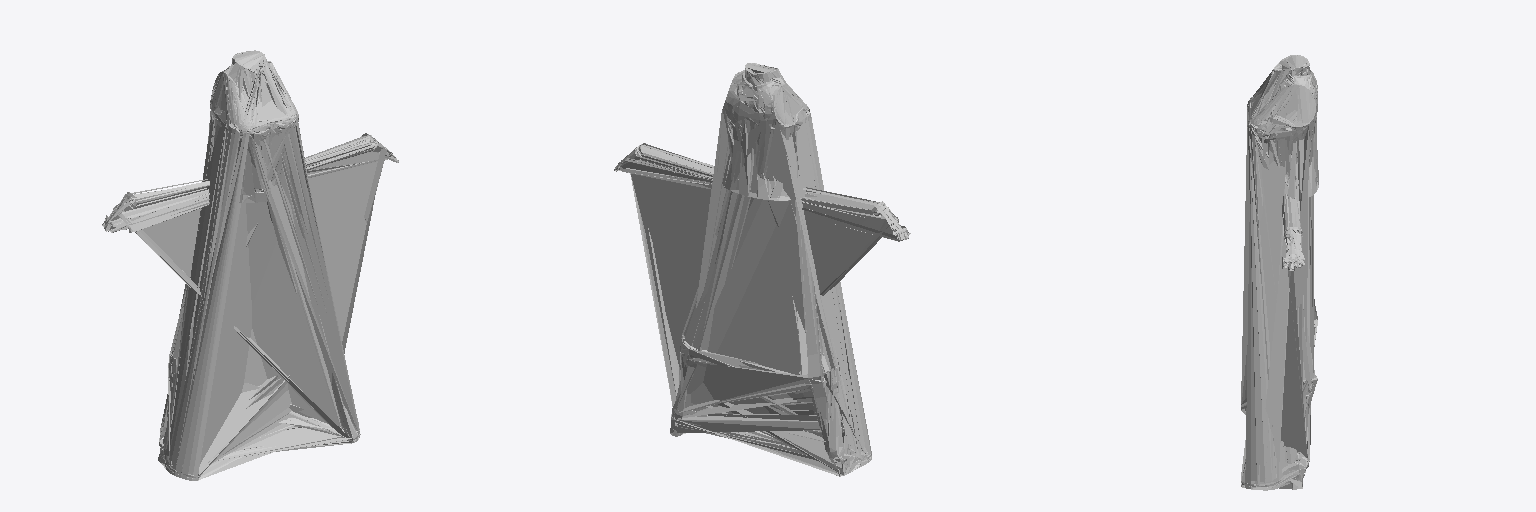
The picture shows the model from 3 angles: view 1: azimuth 30°, elevation 25°; view 2: azimuth 150°, elevation 25°; view 3: azimuth 270°, elevation 25°; orthographic projection.
Parts seen in each view (by area): view 1: Model001_25_face_1_0_0_head_head neck upper, Model001_25_ponytail_1_0_0_body lower_spine lower, Model001_25_eyes_1_0_0_body upper_spine upper, Model001_25_arm1_1_0_0_knee right_leg right knee, Model001_25_hair1_1_0_0_hand left_arm left wrist, Model001_25_shirt_2_0_0, Model001_25_boots_1_0_0, Model001_25_pants_2_0_0_hand right_arm right wrist; view 2: Model001_25_face_1_0_0_head_head neck upper, Model001_25_ponytail_1_0_0_body lower_spine lower, Model001_25_eyes_1_0_0_body upper_spine upper, Model001_25_gloves_1_0_0, Model001_25_boots_1_0_0, Model001_25_pants_2_0_0_hand right_arm right wrist, Model001_25_shirt_2_0_0; view 3: Model001_25_face_1_0_0_head_head neck upper, Model001_25_ponytail_1_0_0_body lower_spine lower, Model001_25_gloves_1_0_0, Model001_25_boots_1_0_0, Model001_25_hair1_1_0_0_hand left_arm left wrist, Model001_25_eyes_1_0_0_body upper_spine upper.
Boxes of the visible parts, box(x1,y1,x2,y2) form: Model001_25_face_1_0_0_head_head neck upper: box(102, 51, 398, 480); Model001_25_ponytail_1_0_0_body lower_spine lower: box(158, 50, 358, 480); Model001_25_eyes_1_0_0_body upper_spine upper: box(210, 56, 295, 188); Model001_25_arm1_1_0_0_knee right_leg right knee: box(226, 61, 290, 202); Model001_25_hair1_1_0_0_hand left_arm left wrist: box(158, 54, 326, 477); Model001_25_shirt_2_0_0: box(212, 60, 294, 146); Model001_25_boots_1_0_0: box(233, 52, 297, 192); Model001_25_pants_2_0_0_hand right_arm right wrist: box(210, 55, 295, 202); Model001_25_face_1_0_0_head_head neck upper: box(614, 63, 910, 476); Model001_25_ponytail_1_0_0_body lower_spine lower: box(670, 64, 871, 475); Model001_25_eyes_1_0_0_body upper_spine upper: box(722, 68, 810, 200); Model001_25_gloves_1_0_0: box(722, 65, 808, 192); Model001_25_boots_1_0_0: box(722, 64, 790, 200); Model001_25_pants_2_0_0_hand right_arm right wrist: box(722, 72, 784, 148); Model001_25_shirt_2_0_0: box(727, 69, 810, 199); Model001_25_face_1_0_0_head_head neck upper: box(1241, 55, 1317, 490); Model001_25_ponytail_1_0_0_body lower_spine lower: box(1241, 56, 1317, 490); Model001_25_gloves_1_0_0: box(1252, 56, 1318, 186); Model001_25_boots_1_0_0: box(1256, 65, 1316, 201); Model001_25_hair1_1_0_0_hand left_arm left wrist: box(1247, 55, 1317, 477); Model001_25_eyes_1_0_0_body upper_spine upper: box(1247, 55, 1317, 166).
Bounding box in the file's own units: 1.15 × 1.46 × 0.2679.